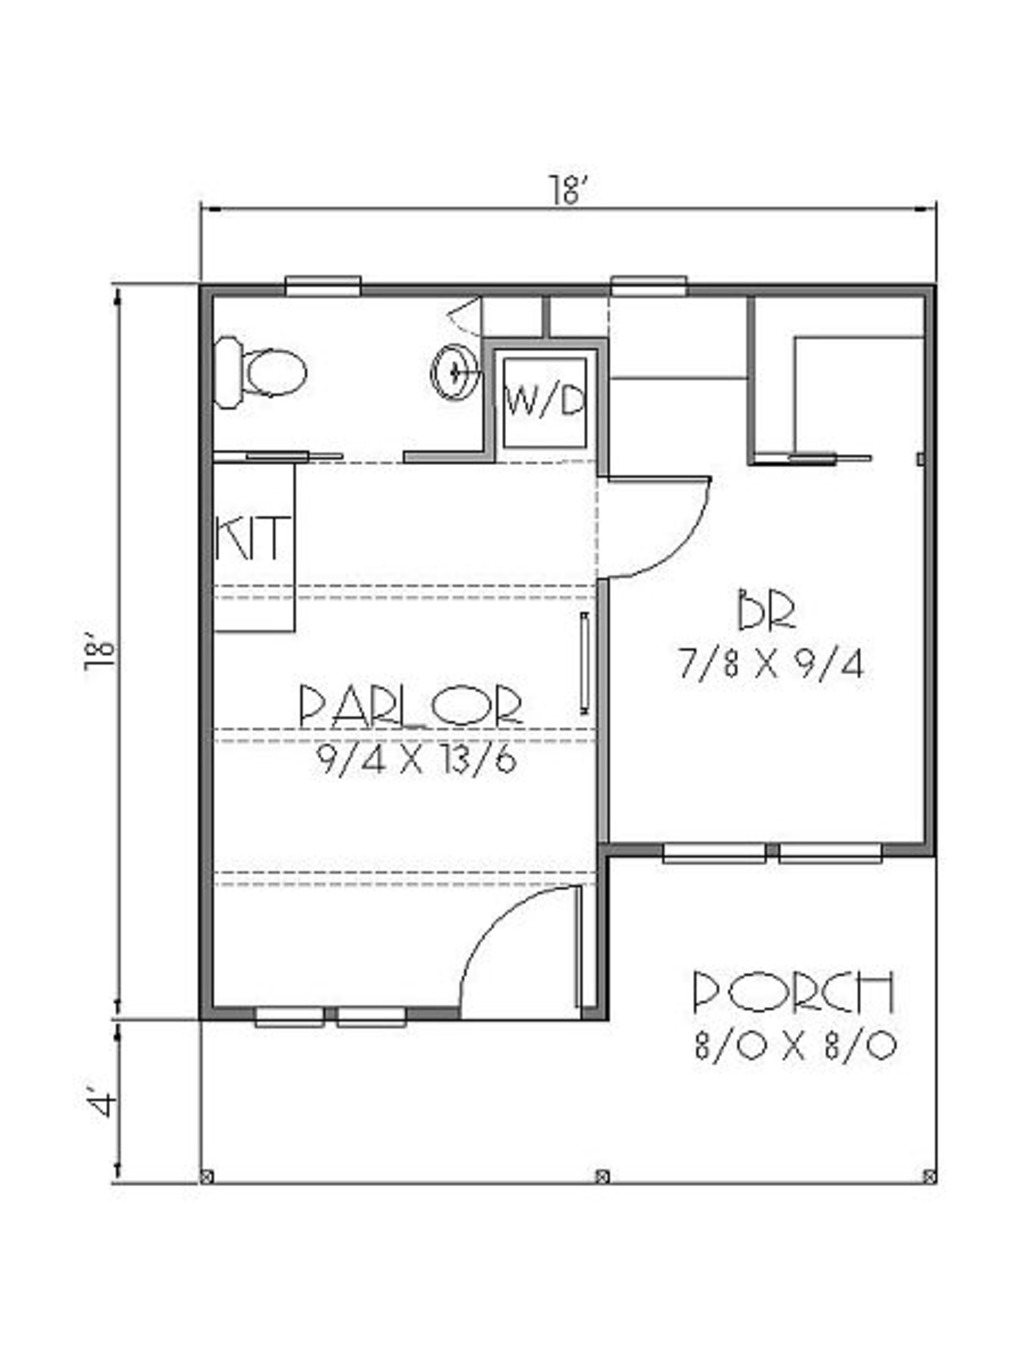door: (446, 877, 596, 1019), (596, 477, 719, 582)
large_sink: (217, 330, 321, 427)
small_sink: (411, 340, 482, 413)
window: (603, 265, 701, 311), (286, 265, 384, 305), (780, 836, 884, 871), (251, 989, 336, 1030), (336, 990, 415, 1034), (663, 836, 771, 867)
